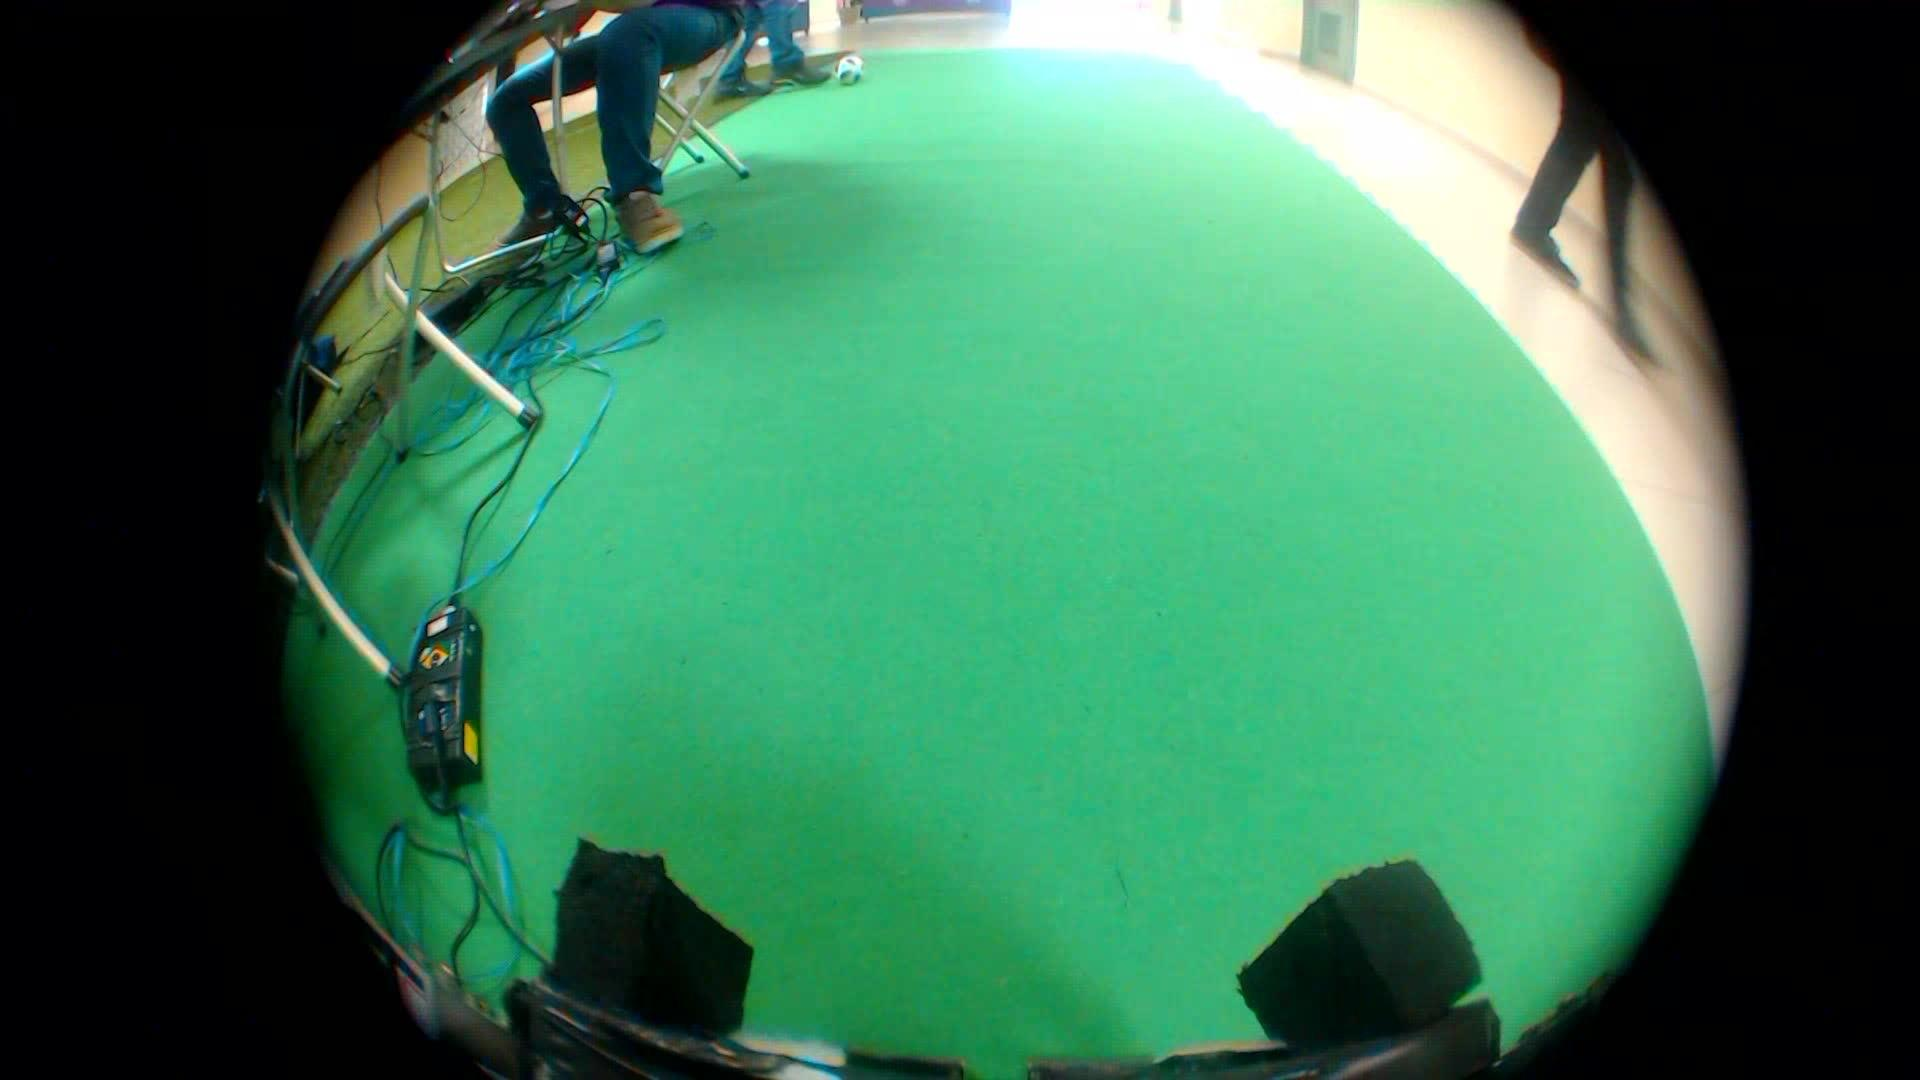ball: (825, 51, 868, 94)
